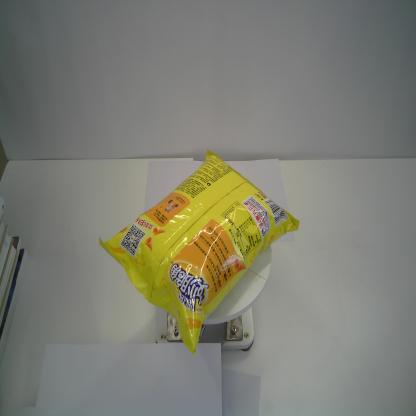Puffed Food: (96, 143, 302, 358)
